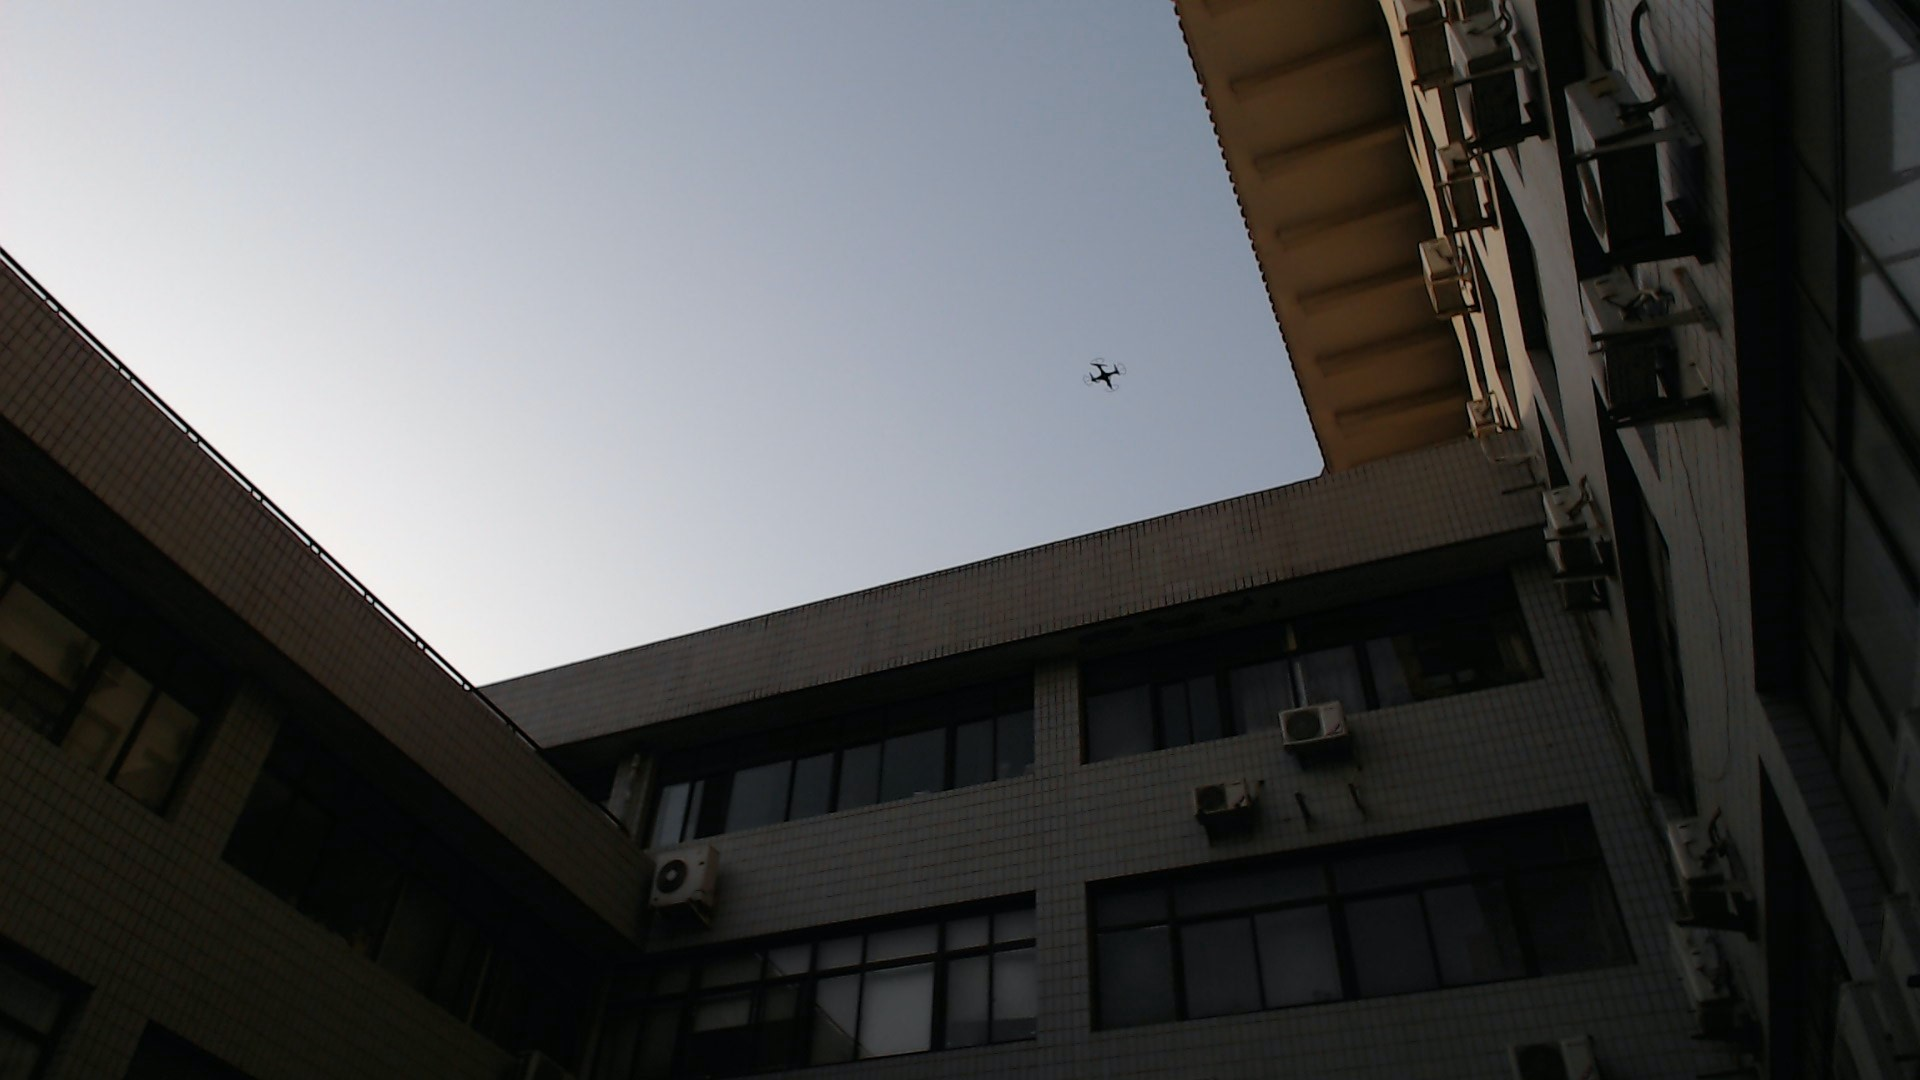drone: (1080, 338, 1134, 404)
